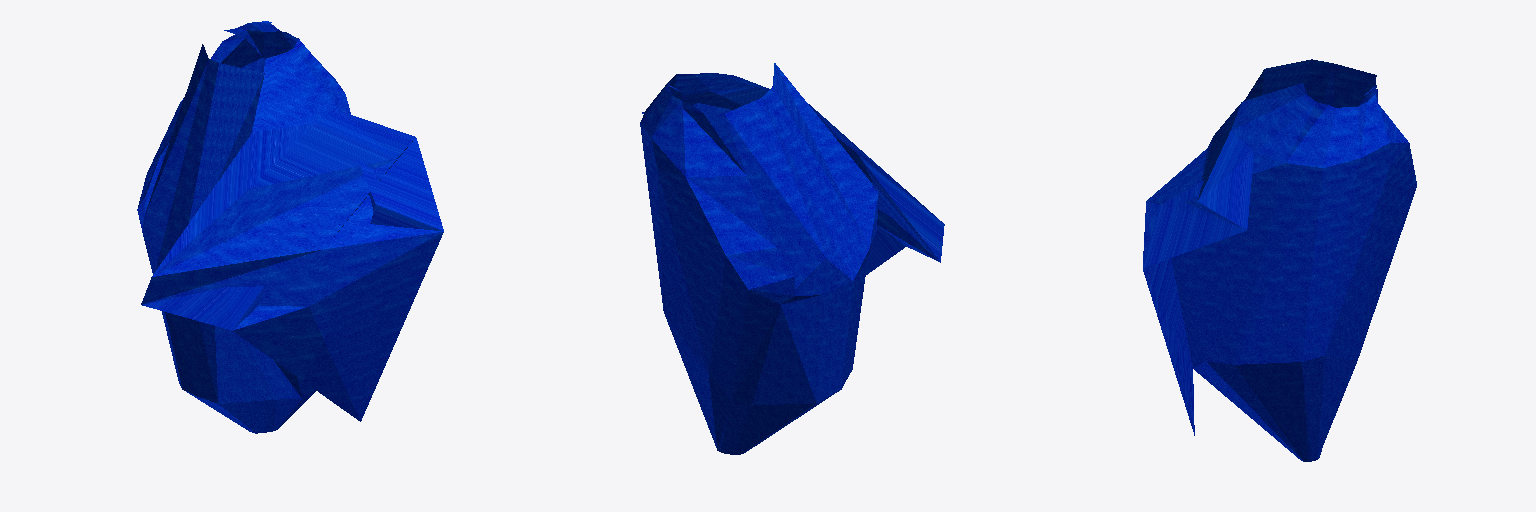
3 renders of one model, left to right at view 1: azimuth 30°, elevation 25°; view 2: azimuth 150°, elevation 25°; view 3: azimuth 270°, elevation 25°, orthographic.
Bounding box in the file's own units: 1.49 × 1.87 × 1.23.
1 materials, 1 textured.